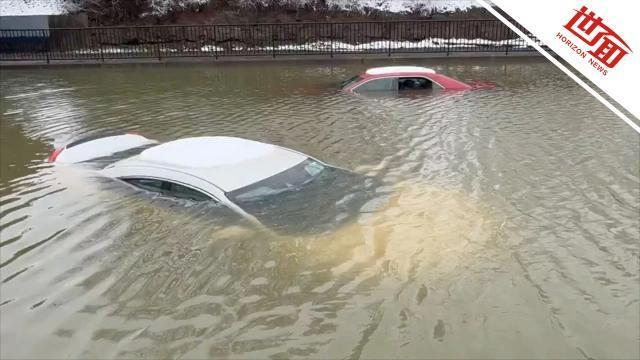water: (0, 59, 638, 359)
